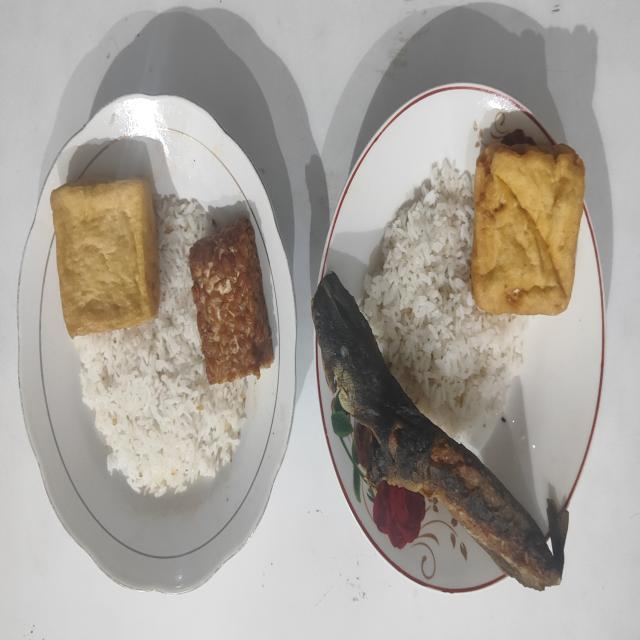nasi_putih: (74, 195, 248, 497), (358, 160, 532, 442)
tahu_goreng: (472, 142, 584, 315), (50, 179, 160, 337)
tempe_goreng: (189, 218, 273, 384)
